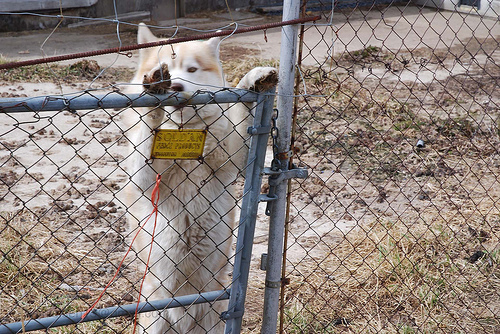dog: (123, 20, 279, 331)
